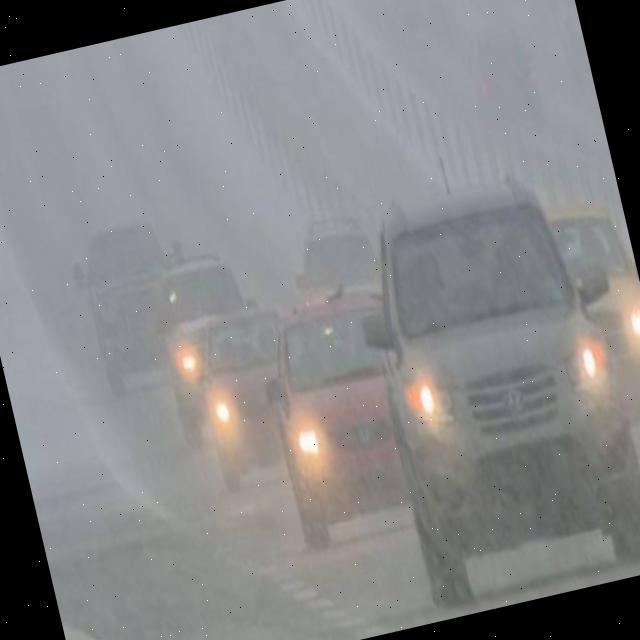car: (344, 167, 640, 574), (242, 277, 432, 547), (64, 199, 204, 392), (536, 195, 640, 430), (148, 249, 270, 436), (192, 304, 302, 480), (280, 198, 390, 326)
